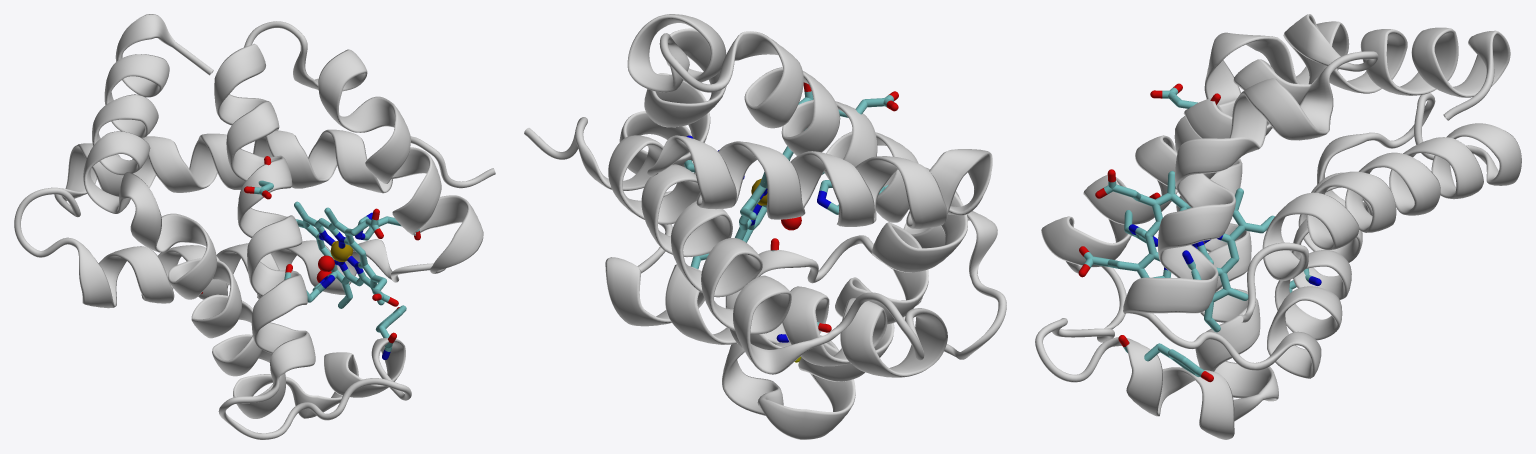
The model's file is frame30.gltf.
3 renders of one model, left to right at view 1: azimuth 30°, elevation 25°; view 2: azimuth 150°, elevation 25°; view 3: azimuth 270°, elevation 25°, orthographic. The views are drawn at different scales.
Visible parts, largest first — view 1: vmd_mol30_rep3, vmd_mol30_rep2, vmd_mol30_rep1; view 2: vmd_mol30_rep3, vmd_mol30_rep1, vmd_mol30_rep2; view 3: vmd_mol30_rep3, vmd_mol30_rep2, vmd_mol30_rep1.
Boxes of the visible parts, x1,y1,x2,y2 form: vmd_mol30_rep3: (14,14,495,439); vmd_mol30_rep2: (294,201,398,308); vmd_mol30_rep1: (201,156,420,359); vmd_mol30_rep3: (524,14,1006,439); vmd_mol30_rep1: (684,91,898,362); vmd_mol30_rep2: (735,82,824,242); vmd_mol30_rep3: (1035,14,1521,439); vmd_mol30_rep2: (1078,169,1274,332); vmd_mol30_rep1: (1118,83,1321,382).
Bounding box in the file's own units: 1.41 × 1.17 × 1.28.
